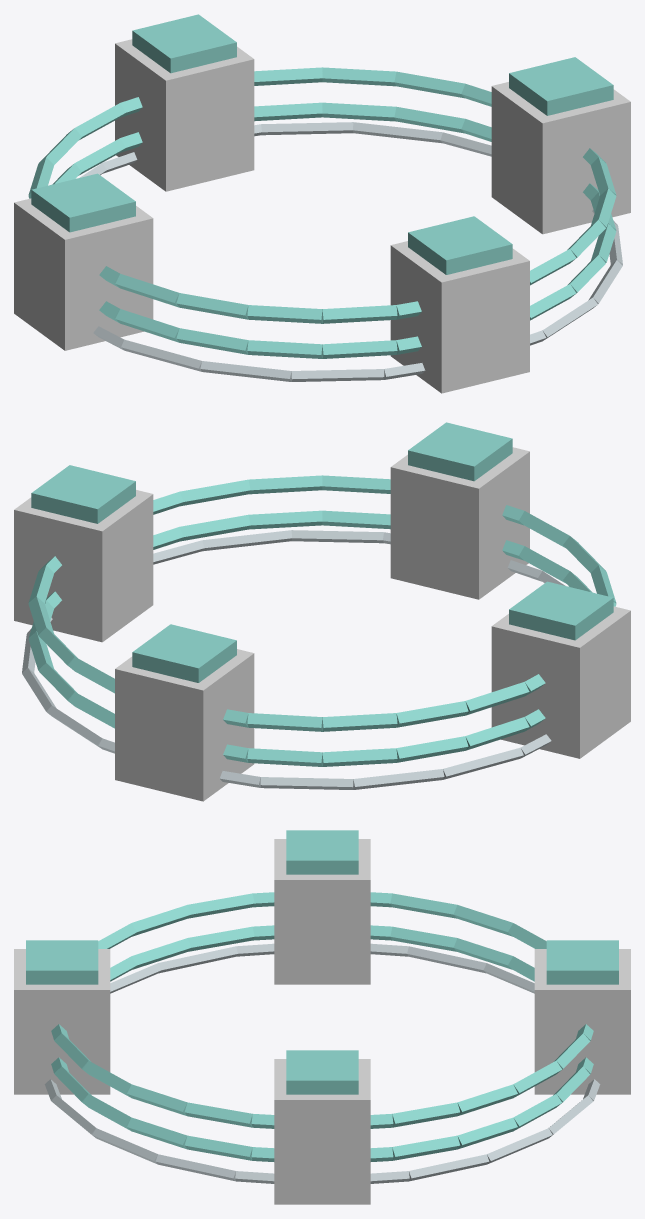
File: space_ramparts_h2.glb
3 renders of one model, top to bottom at view 1: azimuth 30°, elevation 25°; view 2: azimuth 150°, elevation 25°; view 3: azimuth 270°, elevation 25°, orthographic. The views are drawn at different scales.
Visible parts, largest first — view 1: WoodBody, FixedDetails, BrassTrim; view 2: WoodBody, FixedDetails, BrassTrim; view 3: WoodBody, FixedDetails, BrassTrim.
Part boxes in pixels (box(x1,y1,x2,y2)): WoodBody: box(14, 39, 630, 393); FixedDetails: box(28, 14, 616, 358); BrassTrim: box(79, 122, 622, 381); WoodBody: box(14, 447, 630, 801); FixedDetails: box(28, 422, 616, 766); BrassTrim: box(22, 530, 565, 789); WoodBody: box(14, 839, 630, 1204); FixedDetails: box(26, 830, 618, 1161); BrassTrim: box(44, 943, 600, 1183).
Bounding box in the file's own units: 0.64 × 0.136 × 0.64.
